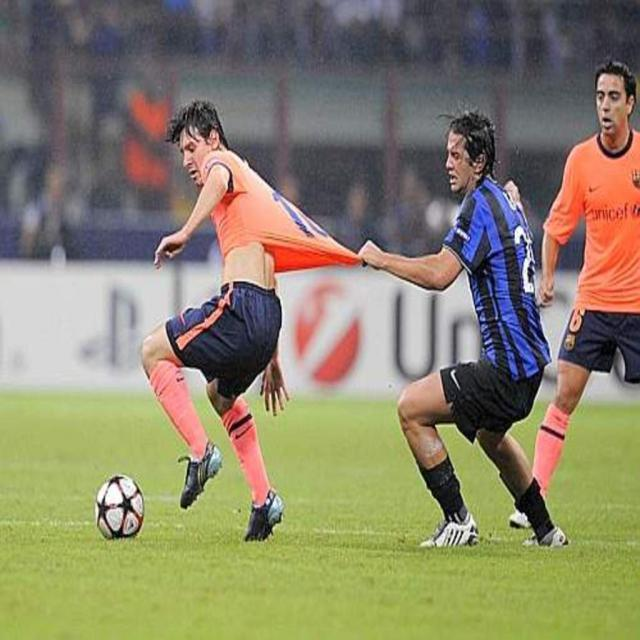football: (81, 462, 157, 544)
